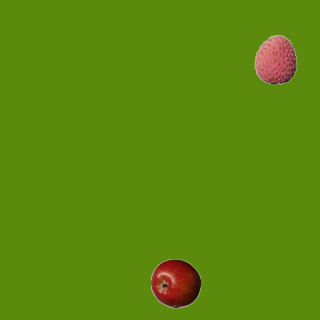Apple Braeburn: (150, 258, 200, 308)
Lychee: (250, 34, 300, 84)
